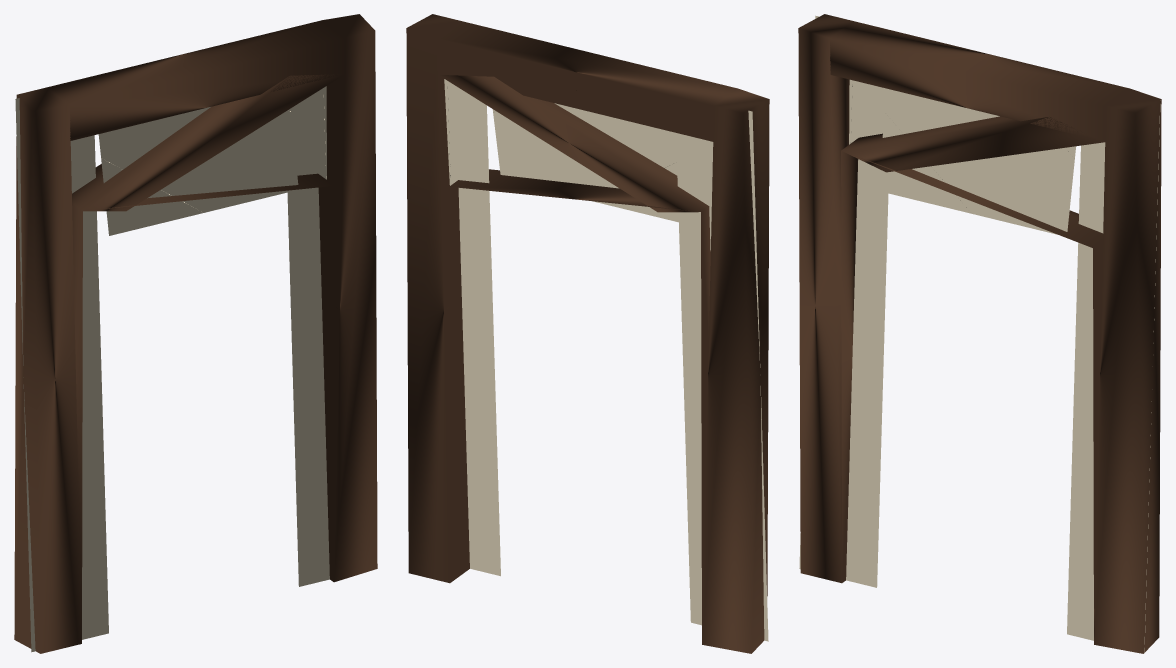
Rendered from wall_plaster_door_lod1.glb.
3 views of the same model, side by side, from view 1: azimuth 30°, elevation 25°; view 2: azimuth 150°, elevation 25°; view 3: azimuth 330°, elevation 25° (orthographic).
Size of the model in its own units: 2 by 3 by 0.26.
